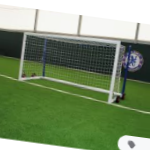goals: (17, 30, 124, 106)
